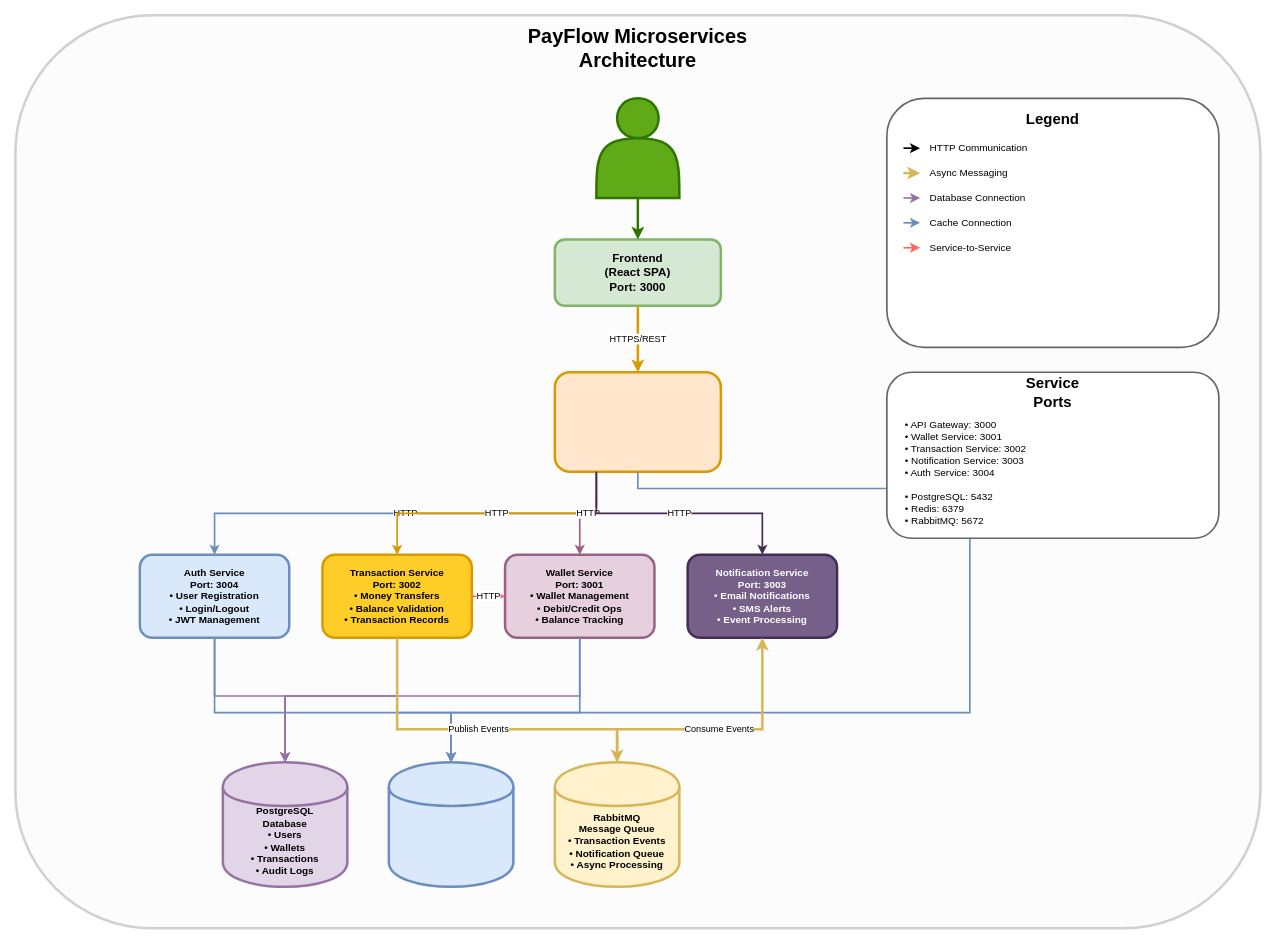
The diagram is 1276 pixels wide and 944 high, and some of its shapes have lost their labels. The centre of each missing label's shape, as x and y in pixels:
API Gateway Port: 3000 • JWT Verification • Rate Limiting • Request Routing: the point at 637,422
Redis Cache • Token Blacklist • Idempotency Keys • Session Data: the point at 450,824
User: the point at 637,148
